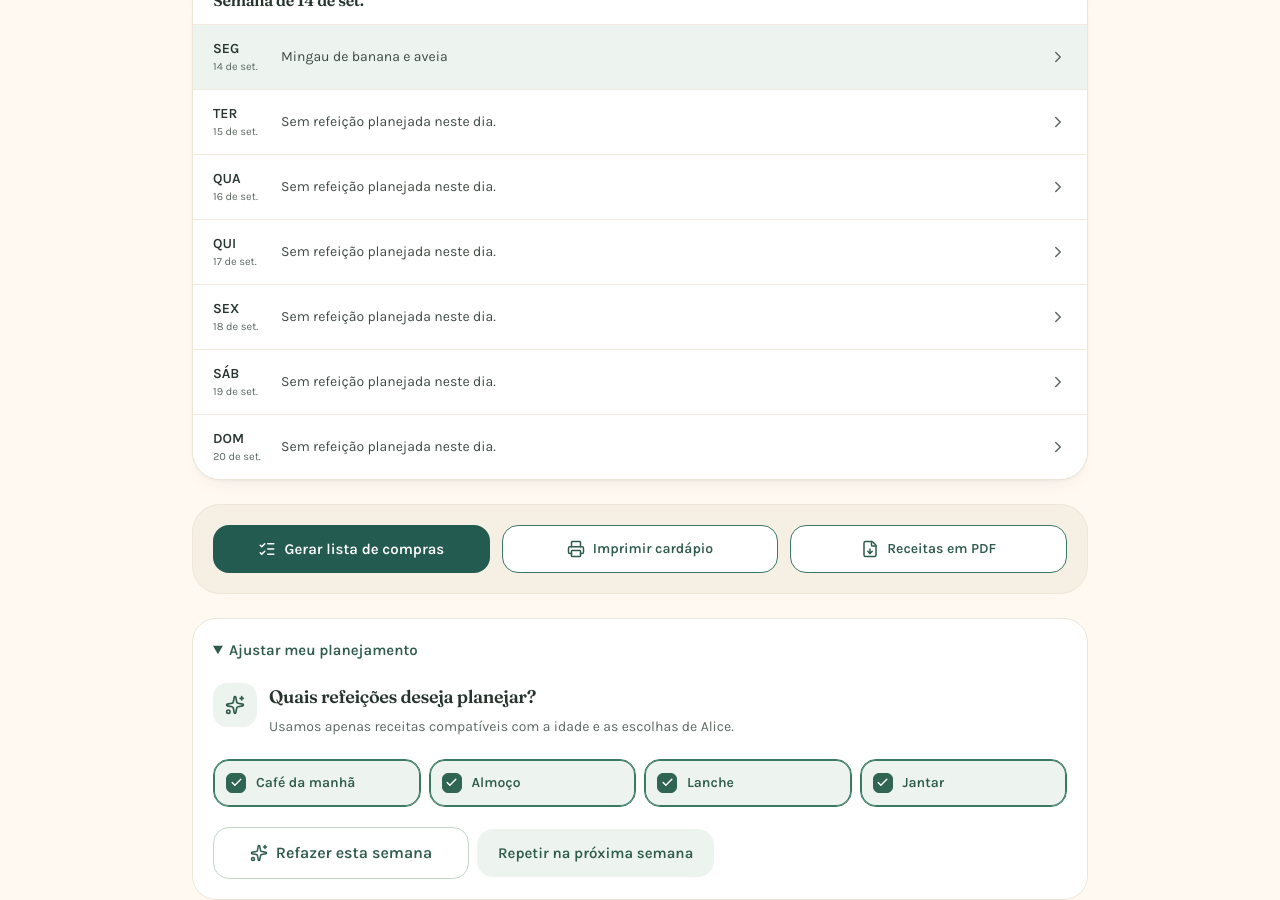
Test: confirma antes de refazer uma semana que já existe
The width and height of the screenshot is (1280, 900).
(page scrolled)
Click the button "Refazer esta semana" at (341, 853), box 213,827 -> 469,879
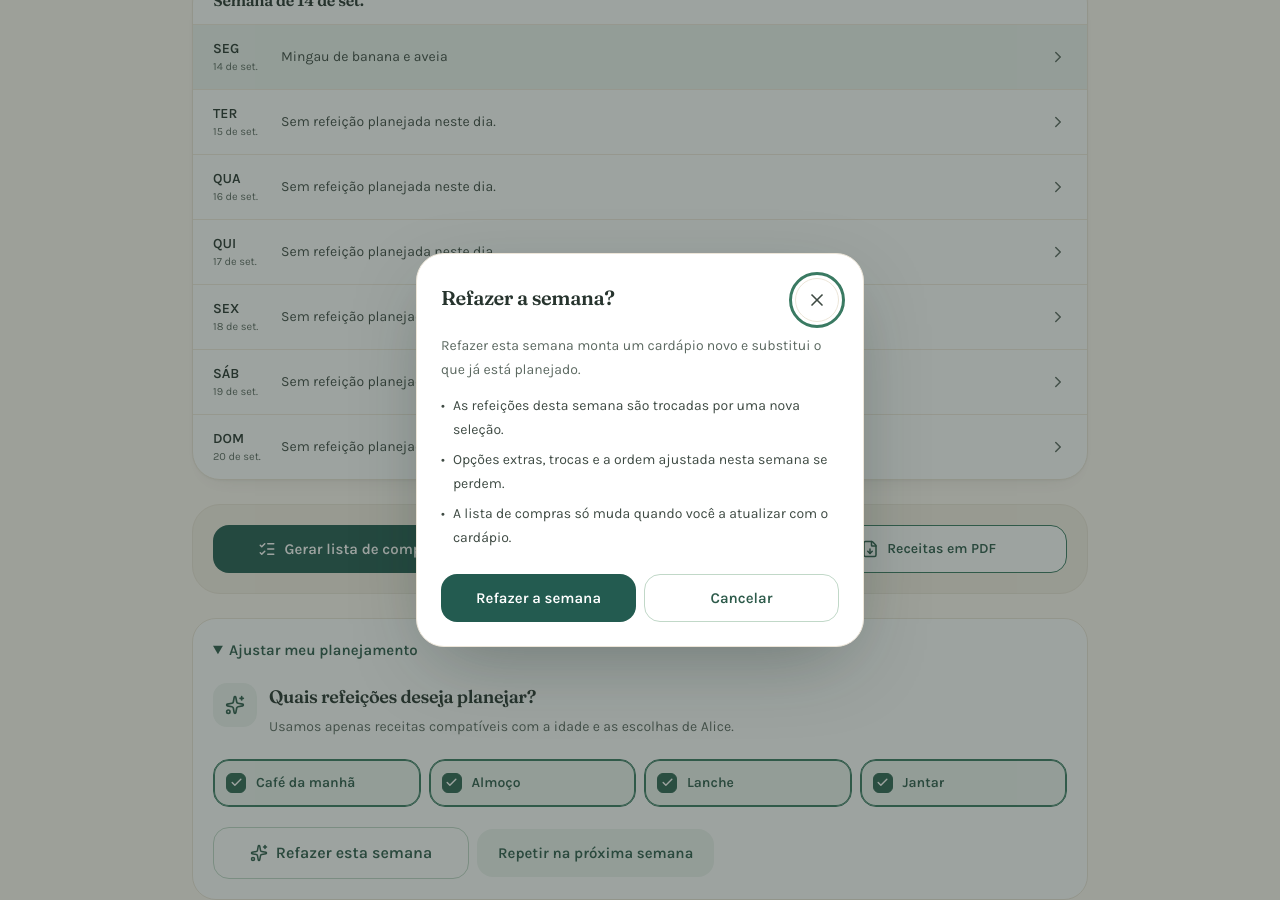
Expected: the dialog is shown, 416,253 -> 864,647
Expected: the text "substitui o que já está planejado" is shown, 441,337 -> 821,378
Click the button "Refazer a semana" at (538, 598), box 441,574 -> 636,622
(page scrolled)
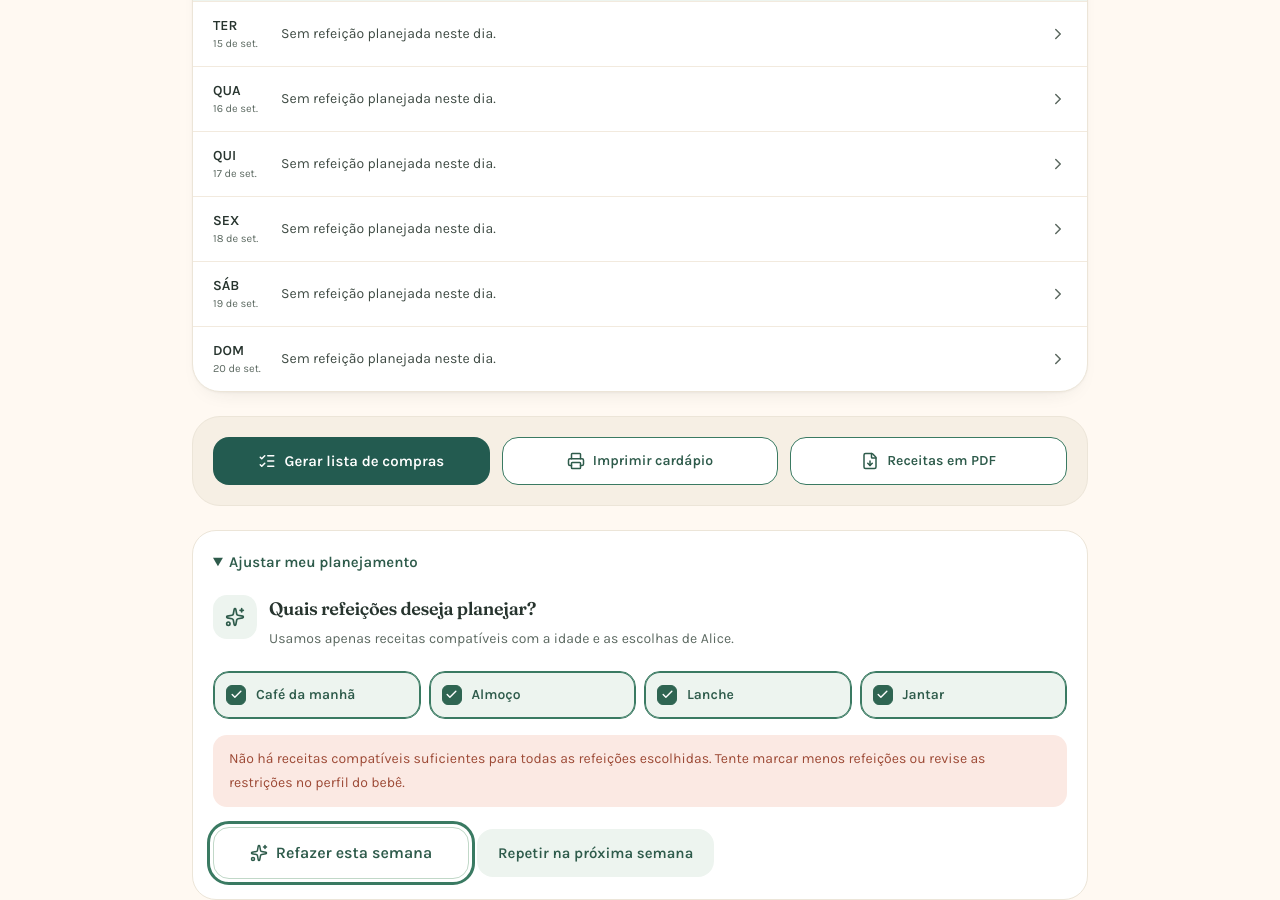
Expected: the dialog is gone
